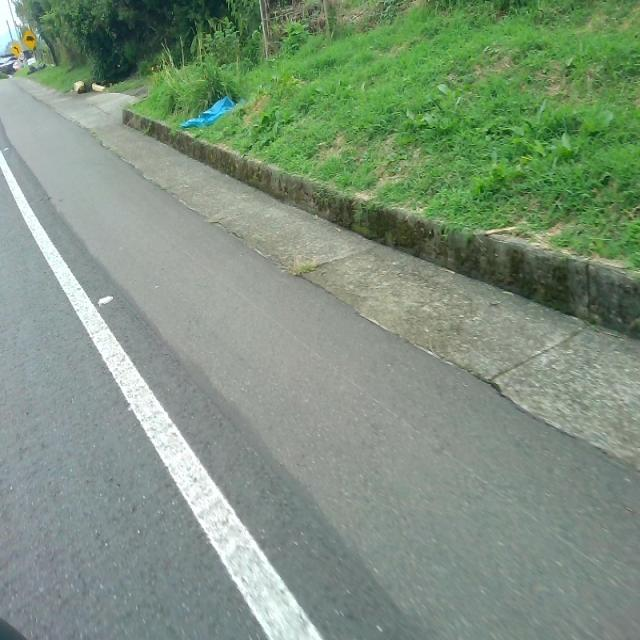DITCH: (1, 71, 638, 638), (60, 37, 638, 638), (1, 94, 638, 638)
